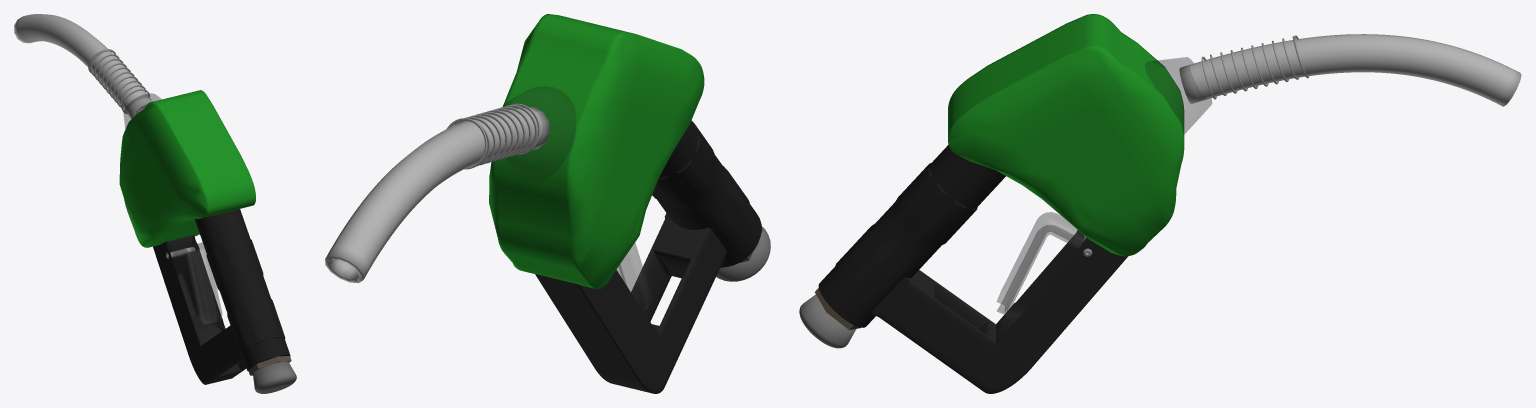
Rendered from kutpisztoly.fbx.
3 renders of one model, left to right at view 1: azimuth 30°, elevation 25°; view 2: azimuth 150°, elevation 25°; view 3: azimuth 270°, elevation 25°, orthographic. The views are drawn at different scales.
Visible parts, largest first — view 1: Cube, Cylinder.001, Cube.001, NurbsPath, Cube.002, Cylinder.007, Cylinder.003, Cylinder, Cylinder.006; view 2: Cube, Cube.001, NurbsPath, Cylinder.001, Cylinder, Cylinder.003, Cube.002, Cylinder.007; view 3: Cube, Cube.001, Cylinder.001, NurbsPath, Cylinder, Cube.002, Cylinder.007, Cylinder.003.
Boxes of the visible parts, x1,y1,x2,y2 form: Cube: (119, 90, 255, 247); Cylinder.001: (194, 209, 290, 371); Cube.001: (153, 235, 246, 384); NurbsPath: (14, 14, 152, 118); Cube.002: (170, 242, 222, 324); Cylinder.007: (253, 361, 296, 393); Cylinder.003: (88, 49, 149, 113); Cylinder: (123, 93, 161, 128); Cylinder.006: (248, 356, 291, 375); Cube: (489, 14, 704, 289); Cube.001: (535, 213, 726, 393); NurbsPath: (325, 107, 549, 283); Cylinder.001: (652, 120, 761, 267); Cylinder: (503, 87, 575, 179); Cylinder.003: (447, 103, 540, 169); Cube.002: (616, 243, 651, 311); Cylinder.007: (716, 226, 770, 281); Cube: (948, 14, 1184, 256); Cube.001: (871, 230, 1128, 393); Cylinder.001: (818, 145, 1005, 327); NurbsPath: (1179, 34, 1521, 106); Cylinder: (1145, 57, 1211, 133); Cube.002: (997, 212, 1083, 314); Cylinder.007: (799, 294, 856, 348); Cylinder.003: (1201, 35, 1309, 99).
Size of the model in its own units: 94.39 by 367 by 679.
